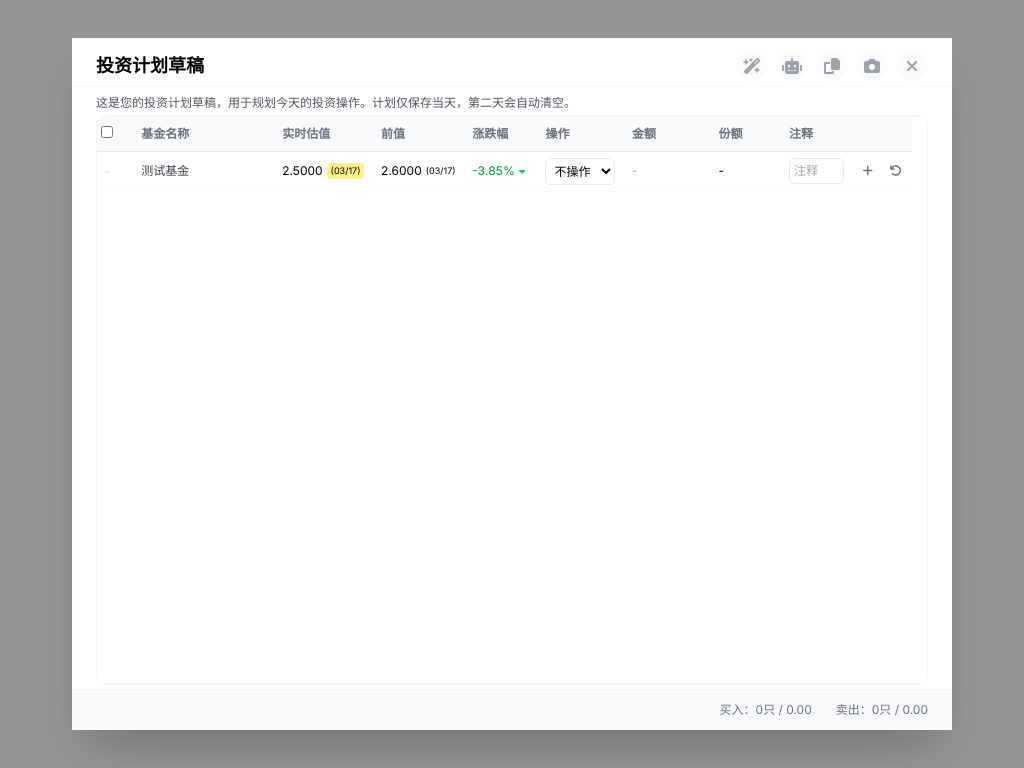
it: InvestmentDraftModal AI 建议持久化 › 上一交易日涨跌幅 hovertip › 上一交易日涨跌幅为负时显示绿色倒三角
Expected: the text "测试基金" is shown, x1=141 y1=163 x2=189 y2=178
Expected: the text "-3.85%" is shown, x1=472 y1=163 x2=515 y2=179
鼠标悬停在小三角图标上显示 tooltip
Hover over the icon with class "fa-caret-down" at point(524, 171), box x1=519 y1=166 x2=529 y2=176
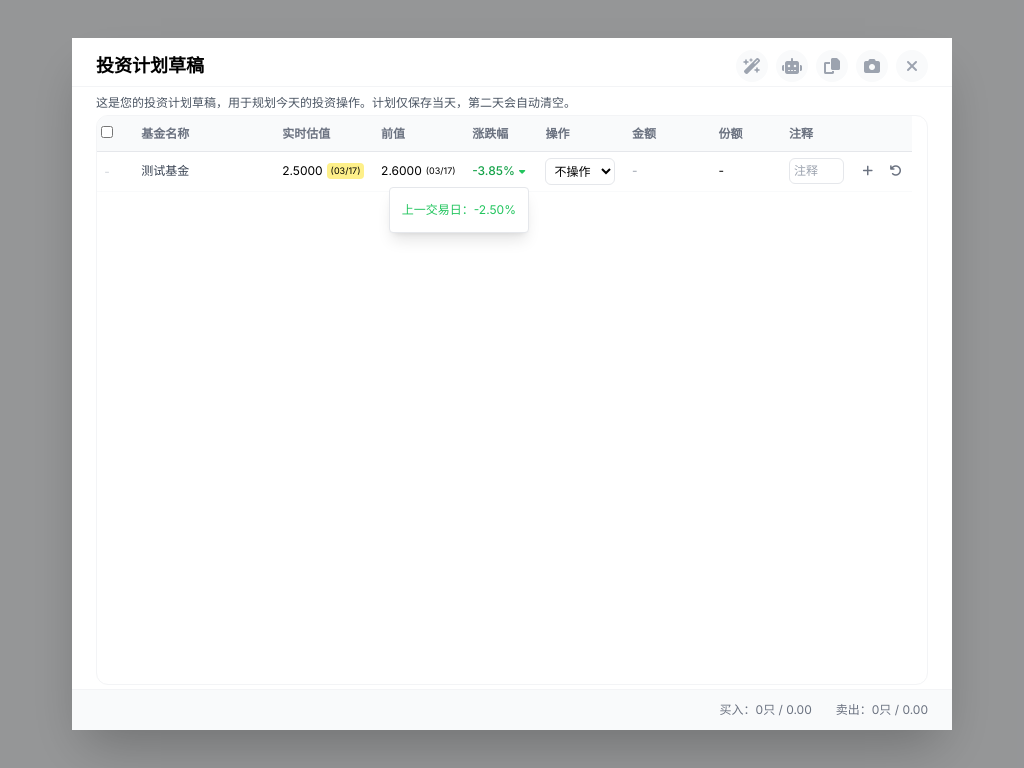
Expected: the text "上一交易日：-2.50%" is shown, x1=402 y1=202 x2=516 y2=217
